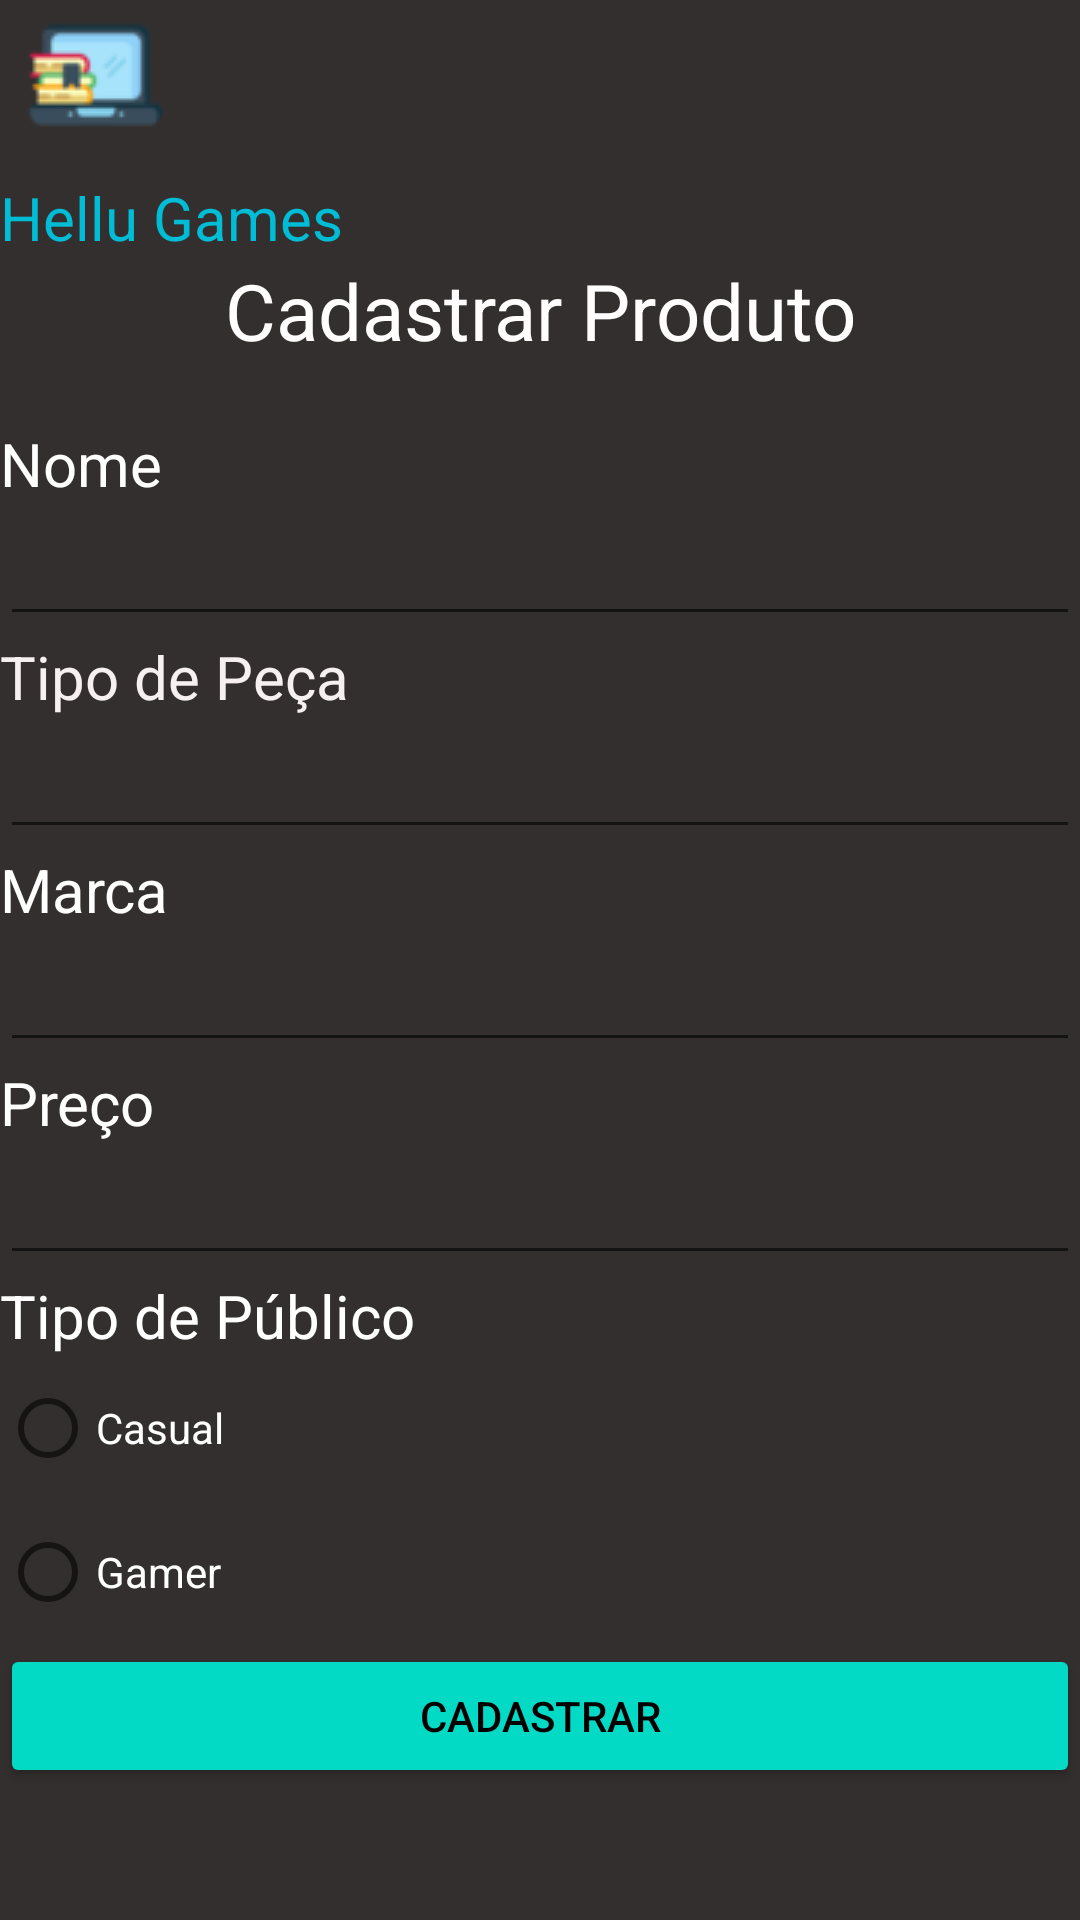

Where to tap for icons on this 1080px x 1920px app screen, as (x=x, y=y):
pcicon: (x=95, y=76)
